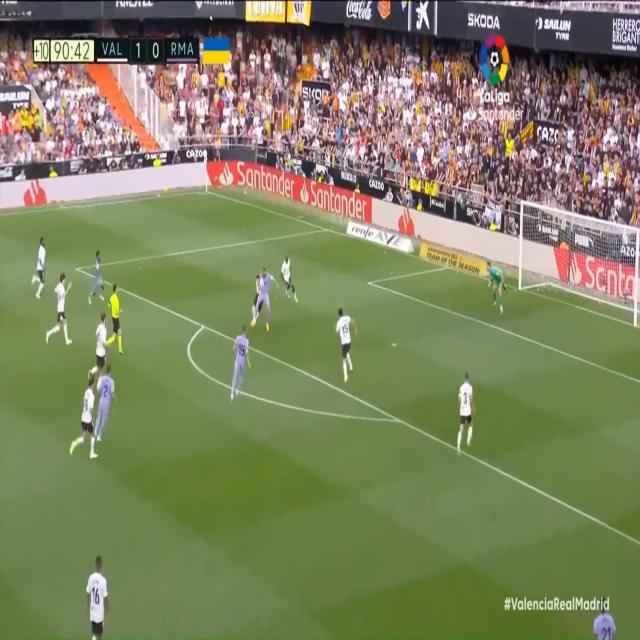ball: (258, 273, 265, 292)
goalkeeper: (480, 258, 507, 316)
player: (67, 374, 97, 462), (44, 270, 75, 349), (83, 550, 109, 640), (455, 366, 478, 459), (332, 301, 355, 386), (96, 353, 116, 450), (229, 322, 250, 405), (257, 261, 278, 329), (92, 307, 112, 374), (31, 233, 50, 303), (280, 252, 299, 304), (89, 249, 106, 307), (251, 271, 263, 324)
referee: (103, 280, 125, 358)
